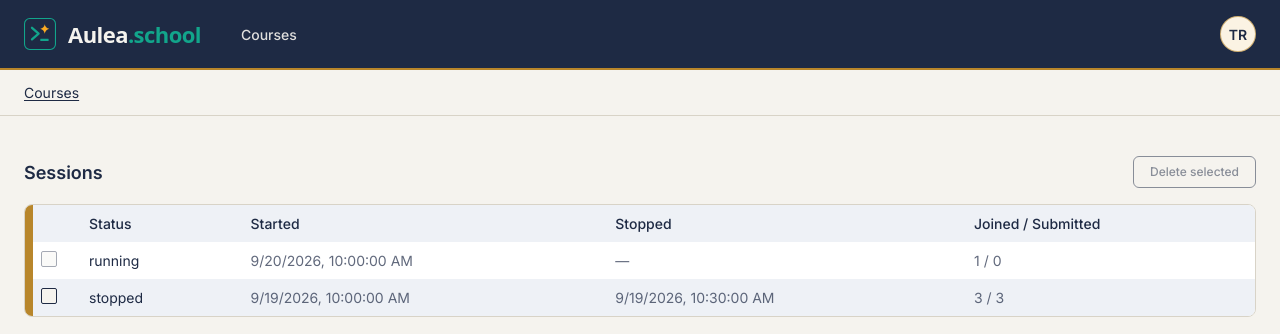
Test: QuizSessionHistoryPage (SESSION-DELETE-001) › disables "Delete selected" until a session is selected, and the running session cannot be selected
This screenshot has width=1280, height=334.
Expected: the text "running" is shown, [73, 242, 234, 279]
Expected: the button "Delete selected" is disabled, [1133, 156, 1256, 188]
selecting the stopped session
Step 1. Click the checkbox named "select session session-old" → (49, 296), box [41, 288, 57, 304]
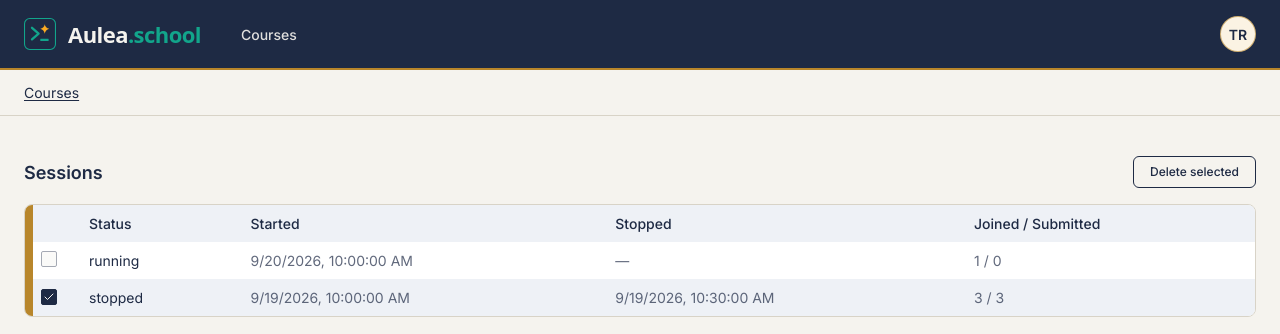
Expected: the button "Delete selected" is enabled, [1133, 156, 1256, 188]
